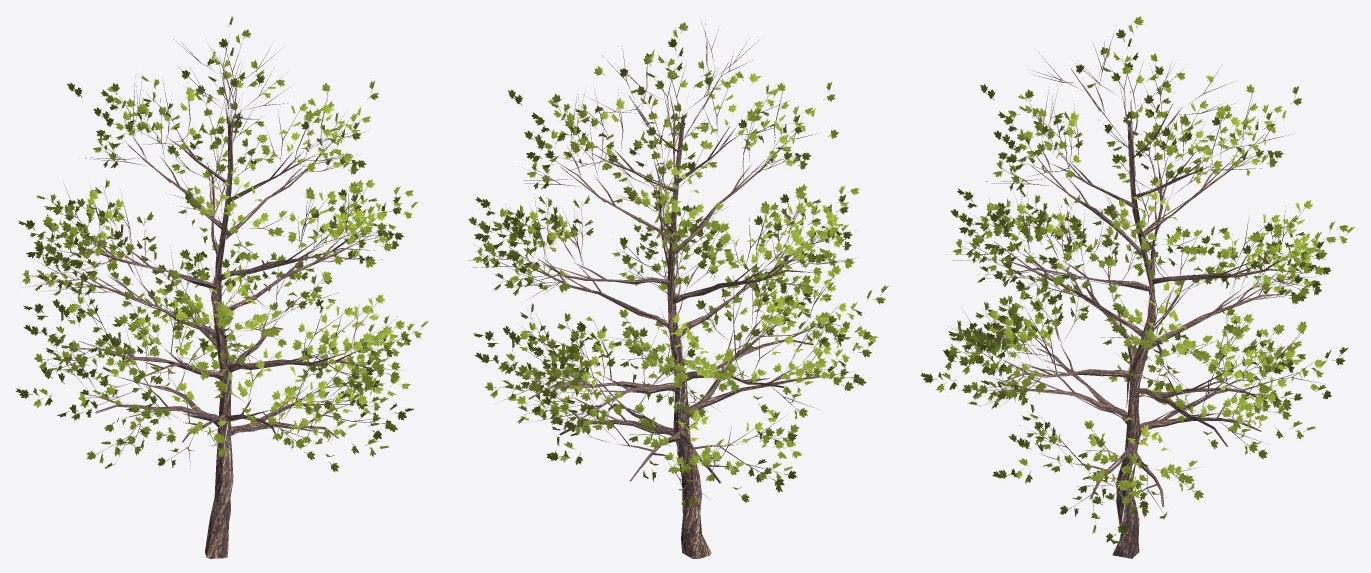
The model's file is tree_maple.glb.
3 renders of one model, left to right at view 1: azimuth 30°, elevation 25°; view 2: azimuth 150°, elevation 25°; view 3: azimuth 270°, elevation 25°, orthographic. The views are drawn at different scales.
Parts seen in each view (by area): view 1: Tree_1_Tree_1Mat_0, Tree_0_Tree_0Mat_0; view 2: Tree_1_Tree_1Mat_0, Tree_0_Tree_0Mat_0; view 3: Tree_1_Tree_1Mat_0, Tree_0_Tree_0Mat_0.
Part boxes in pixels (<box>): Tree_1_Tree_1Mat_0: <box>15,16,428,471</box>; Tree_0_Tree_0Mat_0: <box>20,38,407,558</box>; Tree_1_Tree_1Mat_0: <box>468,22,889,509</box>; Tree_0_Tree_0Mat_0: <box>464,22,861,558</box>; Tree_1_Tree_1Mat_0: <box>920,16,1354,544</box>; Tree_0_Tree_0Mat_0: <box>946,31,1325,558</box>.
Size of the model in its own units: 7.88 by 10.16 by 7.73.
Materials: 2 (2 with a texture image).
